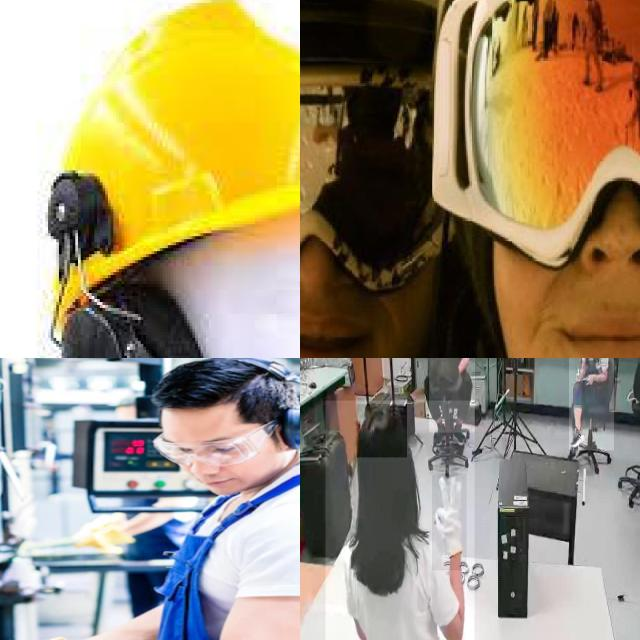Ear-protection: (36, 238, 300, 358), (276, 390, 300, 460)
face_nomask: (514, 38, 640, 358), (300, 74, 418, 358)
glasses: (427, 0, 640, 280), (300, 54, 471, 299), (136, 437, 274, 458)
hand_glove: (432, 474, 466, 570)
hand_noglove: (574, 367, 584, 382), (585, 372, 595, 384)
head_nohelmet: (357, 404, 408, 458)
person: (68, 358, 300, 640), (325, 400, 474, 640), (569, 358, 614, 451), (428, 358, 475, 432)
shoes: (432, 414, 447, 448), (568, 420, 585, 450), (452, 417, 466, 446)
